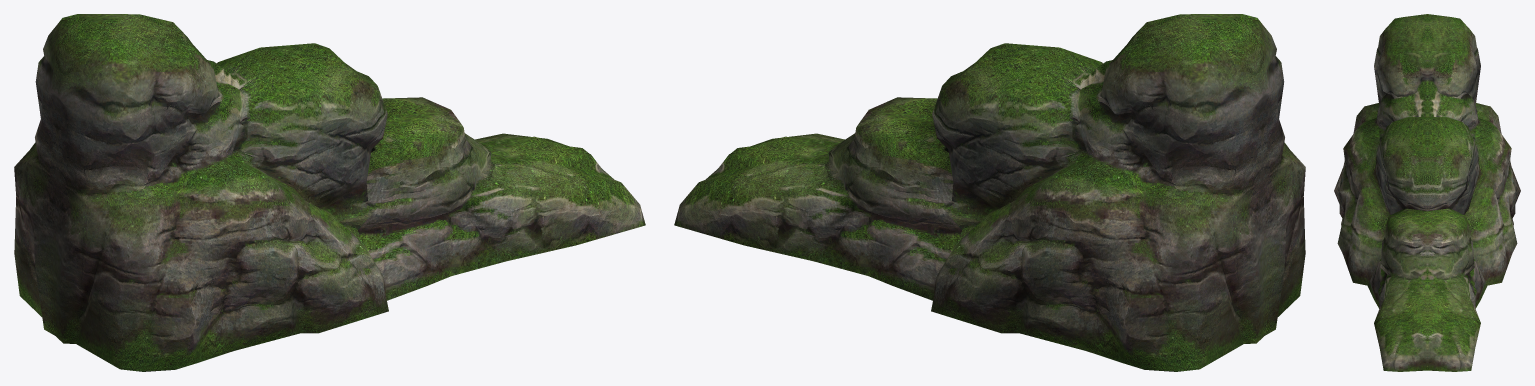
The model's file is cmc_shitou01.FBX.
The picture shows the model from 3 angles, left to right: view 1: azimuth 30°, elevation 25°; view 2: azimuth 150°, elevation 25°; view 3: azimuth 270°, elevation 25°; orthographic projection. The views are drawn at different scales.
Parts seen in each view (by area): view 1: cmc_shitou01; view 2: cmc_shitou01; view 3: cmc_shitou01.
Boxes of the visible parts, x1,y1,x2,y2 form: cmc_shitou01: [14, 14, 645, 371]; cmc_shitou01: [674, 14, 1305, 371]; cmc_shitou01: [1334, 14, 1520, 371].
Bounding box in the file's own units: 490 × 249 × 217.
